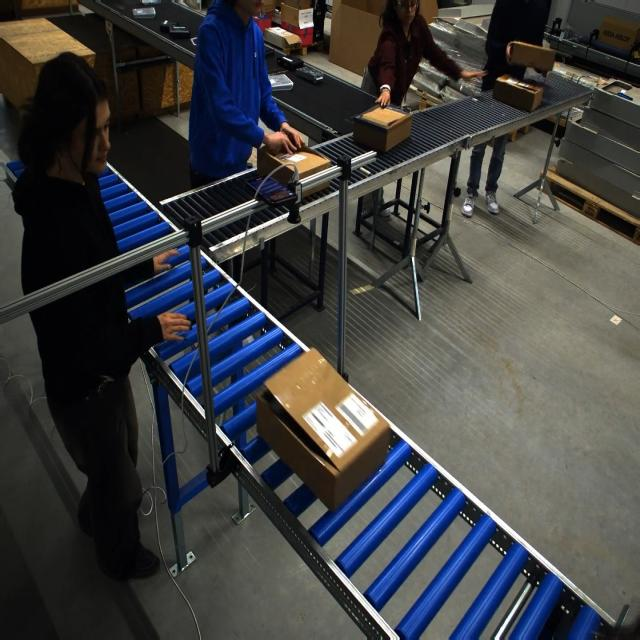box: (258, 354, 378, 504), (256, 138, 327, 195), (354, 104, 412, 152), (492, 74, 543, 114), (506, 41, 558, 73)
product: (159, 21, 190, 37), (268, 72, 294, 91), (295, 66, 323, 83), (275, 54, 303, 71), (131, 7, 156, 18), (140, 0, 162, 5), (190, 37, 198, 48)
